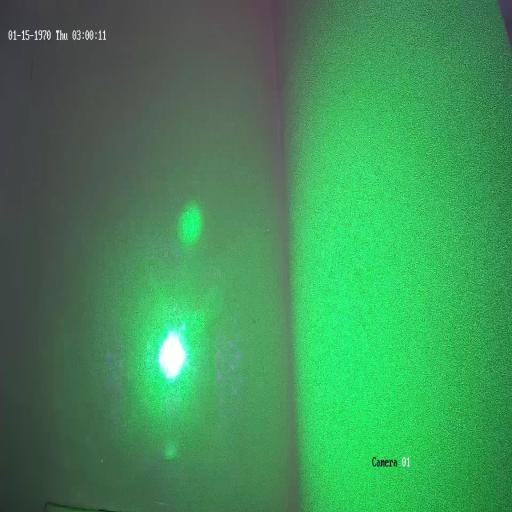laser: (151, 318, 192, 386)
